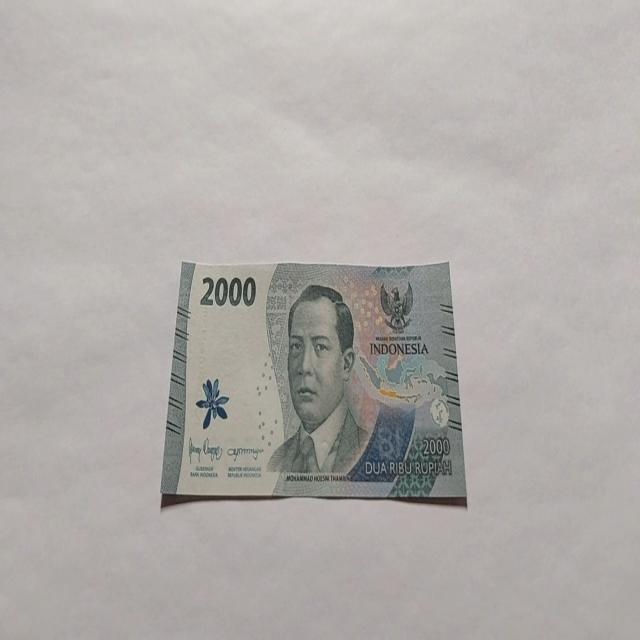dua ribu rupiah: (160, 258, 468, 507), (266, 282, 370, 478)
